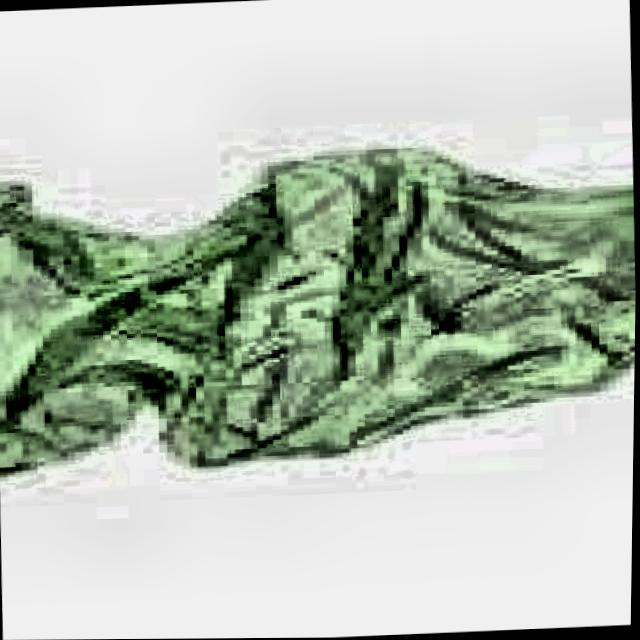plastic: (0, 123, 639, 507)
